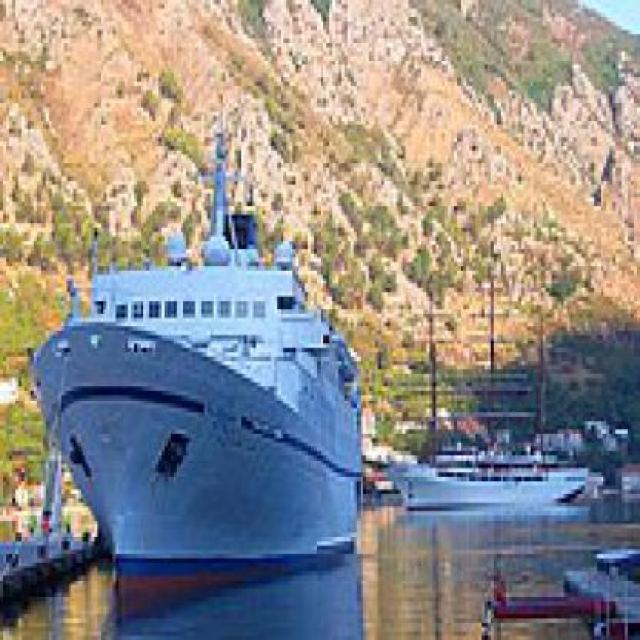cruise: (25, 69, 379, 628)
